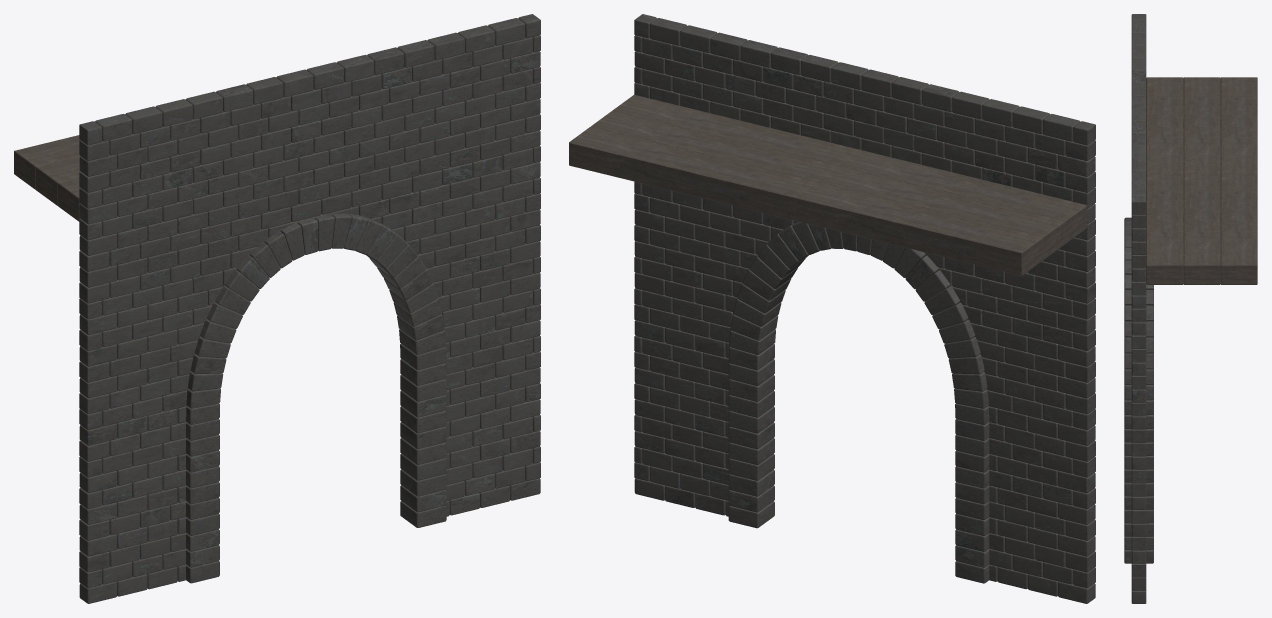
The model's file is Burgmauer_Tor.fbx.
3 renders of one model, left to right at view 1: azimuth 30°, elevation 25°; view 2: azimuth 150°, elevation 25°; view 3: azimuth 270°, elevation 25°, orthographic. The views are drawn at different scales.
Visible parts, largest first — view 1: Burgmauer, Steg; view 2: Burgmauer, Steg; view 3: Steg, Burgmauer.
Boxes of the visible parts, x1,y1,x2,y2 form: Burgmauer: (79,14,540,603); Steg: (14,135,80,221); Burgmauer: (634,14,1095,603); Steg: (569,94,1086,275); Steg: (1146,77,1257,284); Burgmauer: (1124,14,1153,603).
Size of the model in its own units: 300 by 300 by 89.9.
